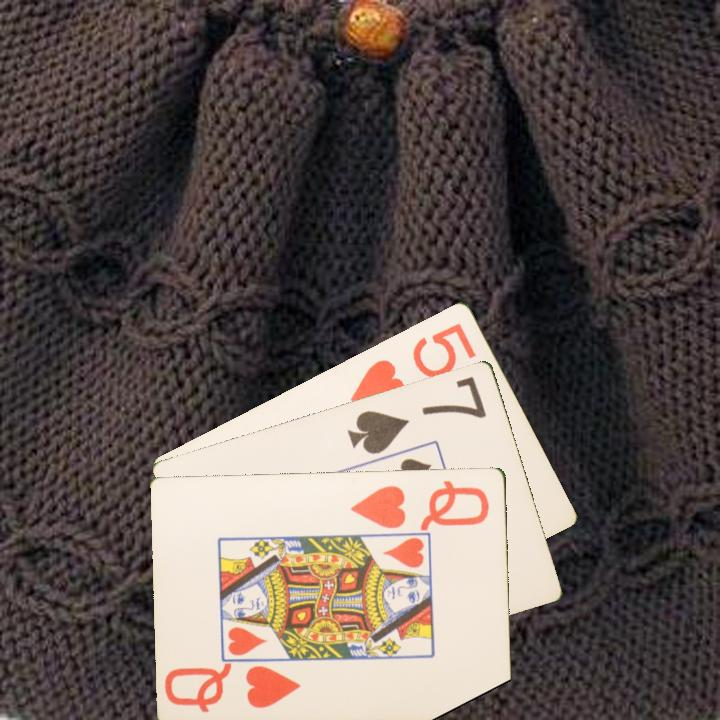5h: (346, 318, 480, 406)
7s: (343, 372, 490, 457)
Qh: (348, 476, 492, 531), (161, 662, 304, 715)
